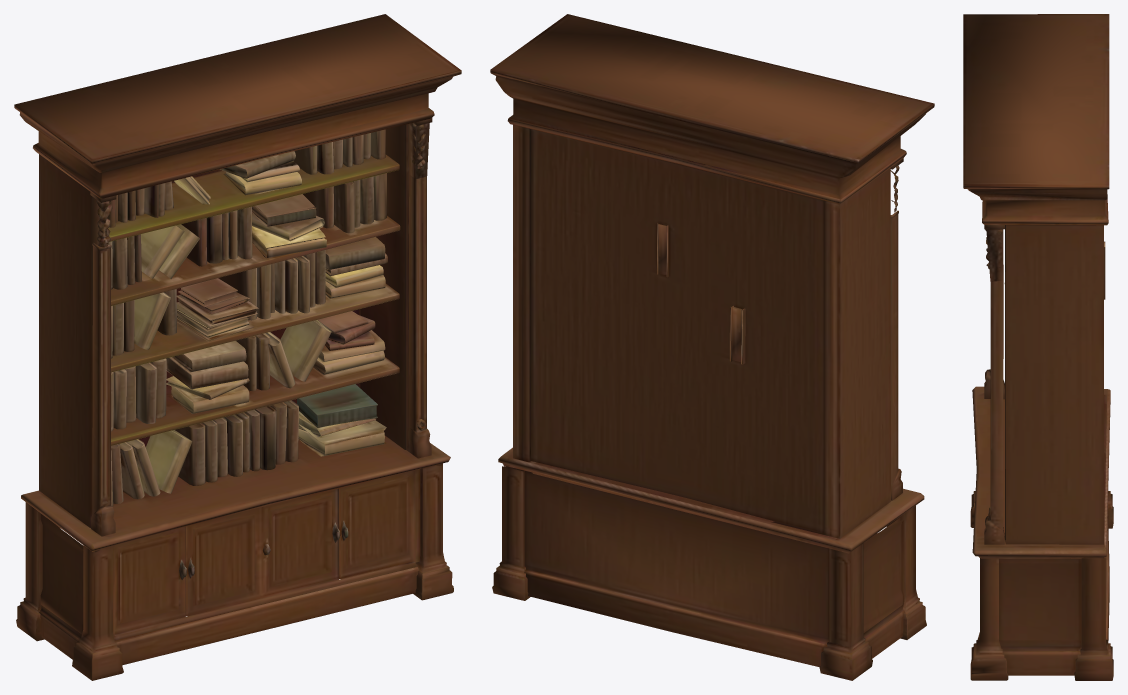
The model's file is atd_realistic_bookcase.glb.
3 renders of one model, left to right at view 1: azimuth 30°, elevation 25°; view 2: azimuth 150°, elevation 25°; view 3: azimuth 270°, elevation 25°, orthographic. The views are drawn at different scales.
Visible parts, largest first — view 1: tripo_8dba0b25_c08e_4e48_aa73_36a0db4e09dd; view 2: tripo_8dba0b25_c08e_4e48_aa73_36a0db4e09dd; view 3: tripo_8dba0b25_c08e_4e48_aa73_36a0db4e09dd.
Part boxes in pixels (left/top/right/bottom): tripo_8dba0b25_c08e_4e48_aa73_36a0db4e09dd: left=14, top=14, right=461, bottom=680; tripo_8dba0b25_c08e_4e48_aa73_36a0db4e09dd: left=490, top=14, right=934, bottom=680; tripo_8dba0b25_c08e_4e48_aa73_36a0db4e09dd: left=963, top=14, right=1113, bottom=680.
Size of the model in its own units: 0.7388 by 0.9976 by 0.2734.
1 material, 1 textured.
